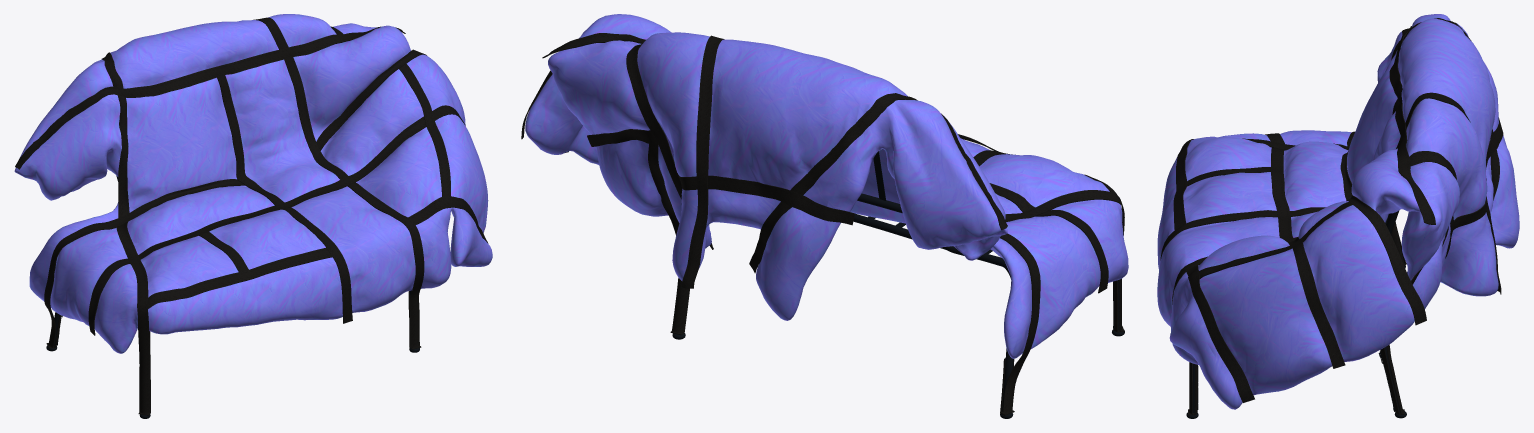
The model's file is EDRASadeSofa.FBX.
The picture shows the model from 3 angles, left to right: view 1: azimuth 30°, elevation 25°; view 2: azimuth 150°, elevation 25°; view 3: azimuth 270°, elevation 25°; orthographic projection. The views are drawn at different scales.
Parts seen in each view (by area): view 1: EDRASadeSofa_fabriс, EDRASadeSofa_leather; view 2: EDRASadeSofa_fabriс, EDRASadeSofa_leather, EDRASadeSofa_base; view 3: EDRASadeSofa_fabriс, EDRASadeSofa_leather, EDRASadeSofa_base.
Part boxes in pixels (bbox=[...]): EDRASadeSofa_fabriс: bbox=[14, 14, 492, 353]; EDRASadeSofa_leather: bbox=[15, 17, 488, 415]; EDRASadeSofa_fabriс: bbox=[525, 14, 1128, 358]; EDRASadeSofa_leather: bbox=[521, 33, 1124, 415]; EDRASadeSofa_base: bbox=[853, 151, 1119, 411]; EDRASadeSofa_fabriс: bbox=[1157, 14, 1519, 409]; EDRASadeSofa_leather: bbox=[1160, 18, 1503, 415]; EDRASadeSofa_base: bbox=[1193, 210, 1400, 413].
Bounding box in the file's own units: 147 × 91.12 × 98.6.
